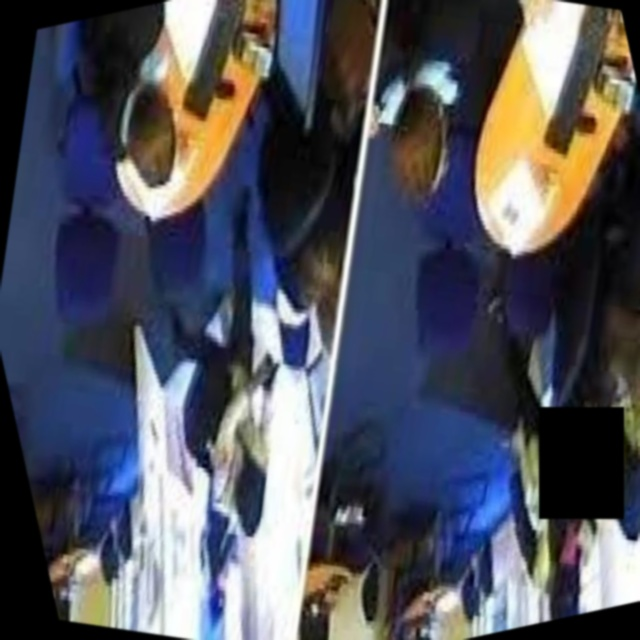gun: (244, 351, 289, 404)
